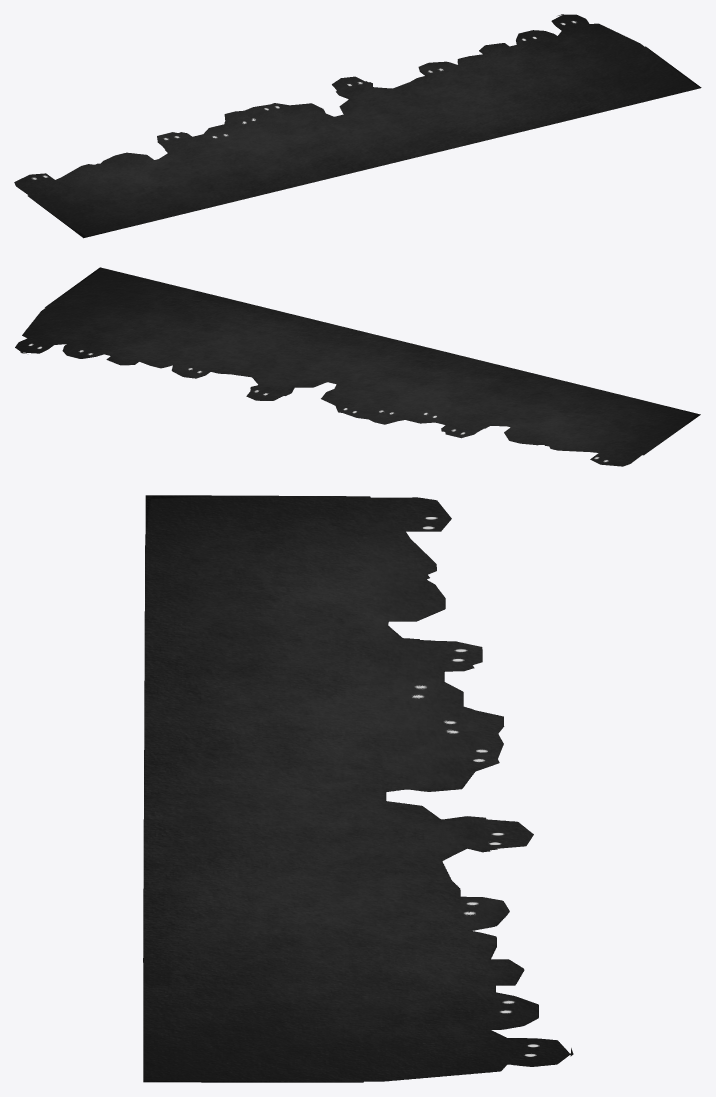
The model's file is crowd.fbx.
3 renders of one model, top to bottom at view 1: azimuth 30°, elevation 25°; view 2: azimuth 150°, elevation 25°; view 3: azimuth 270°, elevation 25°, orthographic. The views are drawn at different scales.
Visible parts, largest first — view 1: BézierCurve; view 2: BézierCurve; view 3: BézierCurve.
Boxes of the visible parts, x1,y1,x2,y2 form: BézierCurve: (14, 14, 701, 238); BézierCurve: (15, 267, 700, 466); BézierCurve: (143, 495, 573, 1082).
Bounding box in the file's own units: 493 × 2.49e-05 × 153.
